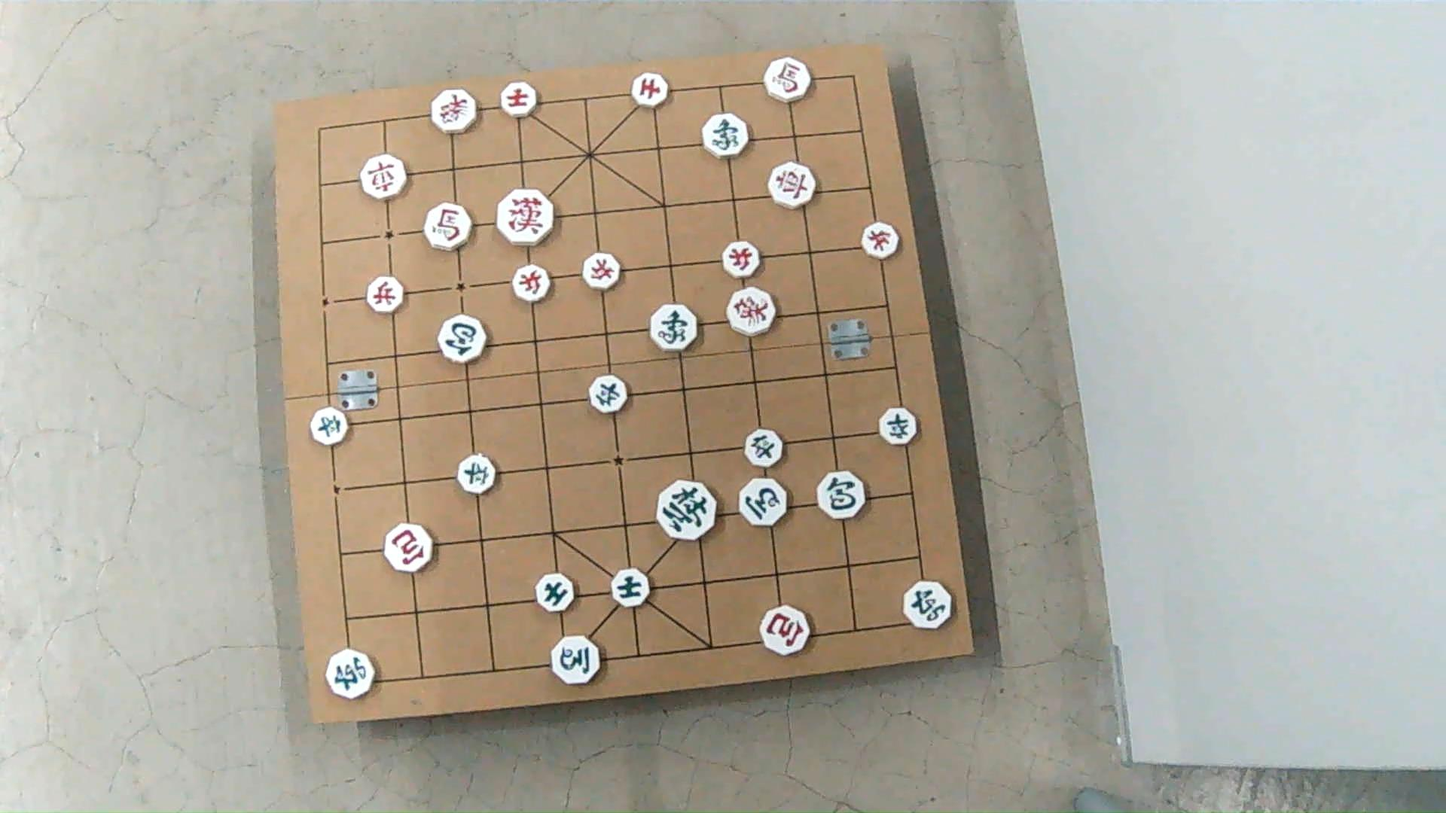cha_green: (328, 650, 377, 699), (905, 581, 954, 629)
cha_red: (770, 163, 816, 209), (363, 154, 408, 199)
jol_green: (459, 453, 497, 493), (746, 428, 784, 467), (591, 376, 630, 414), (310, 407, 348, 446), (877, 409, 916, 445)
jol_red: (722, 241, 762, 277), (582, 254, 619, 291), (511, 265, 549, 301), (368, 276, 404, 313), (862, 224, 898, 260)
ma_green: (551, 636, 600, 684), (740, 479, 786, 526)
ma_red: (426, 206, 473, 252), (764, 59, 810, 102)
po_green: (816, 471, 866, 519), (440, 315, 487, 363)
po_red: (761, 606, 810, 655), (384, 523, 432, 572)
sa_green: (612, 566, 651, 605), (535, 572, 574, 611)
sa_red: (501, 81, 537, 117), (630, 72, 667, 107)
sang_green: (653, 303, 700, 350), (702, 114, 749, 159)
sang_red: (728, 289, 774, 338), (432, 89, 479, 133)
wang_green: (660, 480, 718, 540)
wang_red: (496, 188, 553, 245)
